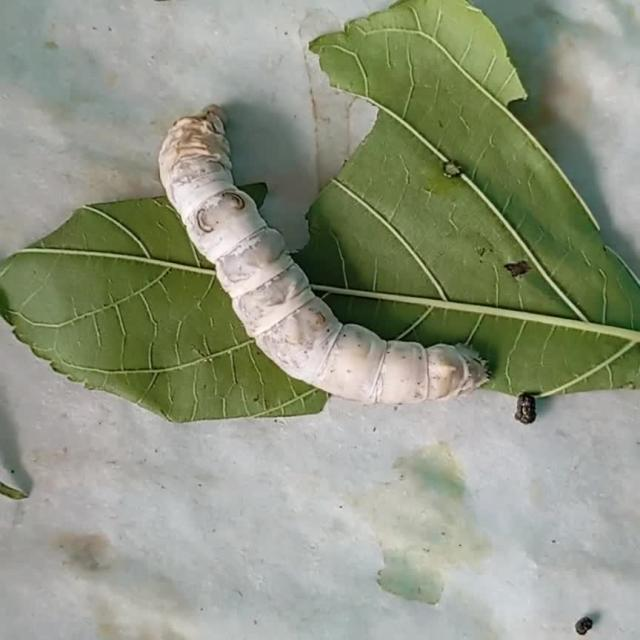Grasserie: (140, 72, 518, 440)
